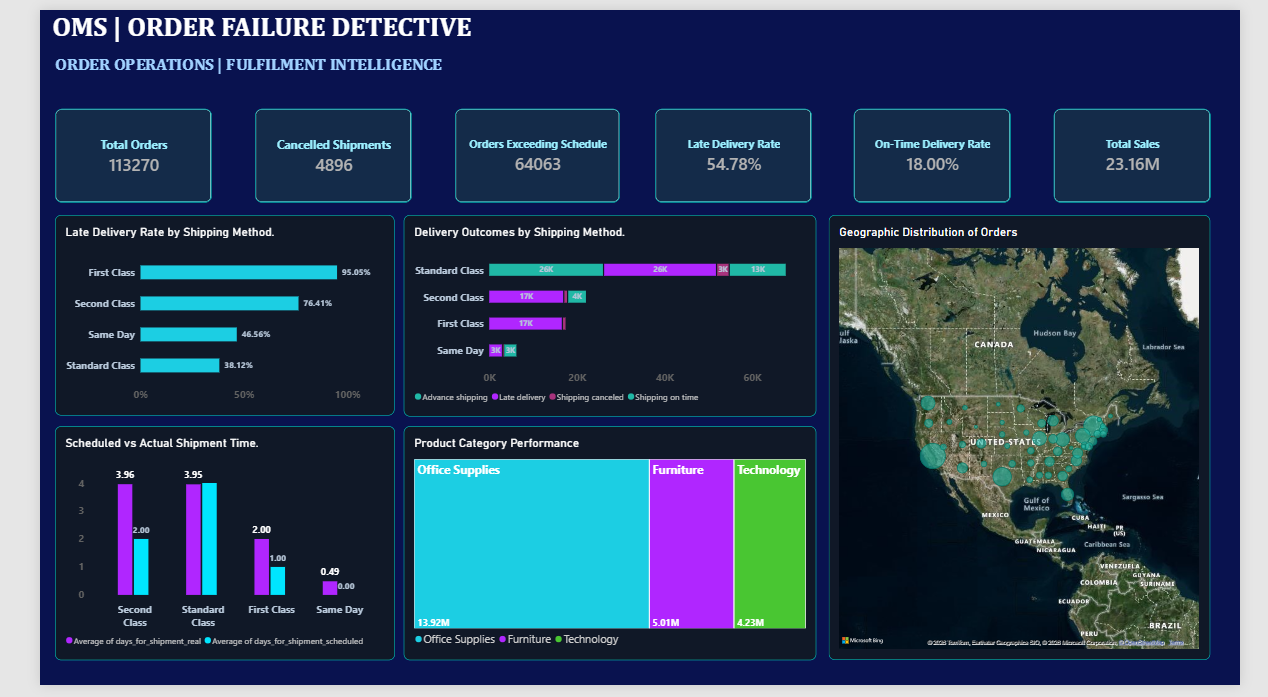

Layout of this report page (visuals, bound fields, positions):
{"tool":"powerbi","page":{"name":"Page 1","canvas":[1920,1080],"ordinal":0},"visuals":[{"type":"textbox","box":[10.3,0,745.1,70],"z":0},{"type":"textbox","box":[24.7,70,934.5,63.8],"z":1000},{"type":"cardVisual","fields":{"Data":["public oms_orders.Total Orders"]},"box":[24.7,158,251.1,150.3],"z":2000},{"type":"cardVisual","fields":{"Data":["public oms_orders.Cancelled Shipments"]},"box":[344.3,158,251,150.3],"z":3000},{"type":"cardVisual","fields":{"Data":["public oms_orders.Orders Exceeding Schedule"]},"box":[664,158,264,150],"z":4000},{"type":"cardVisual","fields":{"Data":["public oms_orders.Late Delivery Rate"]},"box":[983.1,158,251,150.3],"z":5000},{"type":"clusteredBarChart","title":"Late Delivery Rate by Shipping Method.","fields":{"Category":["public oms_orders.shipping_type"],"Y":["public oms_orders.Late Delivery Rate"]},"box":[24.7,327.3,543.4,321.1],"z":6000},{"type":"clusteredColumnChart","title":"Scheduled vs Actual Shipment Time.","fields":{"Category":["public oms_orders.shipping_type"],"Y":["Avg(public oms_orders.days_for_shipment_real)","Avg(public oms_orders.days_for_shipment_scheduled)"]},"box":[24,666,544,374],"z":7000},{"type":"map","title":"Geographic Distribution of Orders","fields":{"Category":["public state_geography.state_name"],"Size":["CountNonNull(public oms_orders.order_id)"],"X":["Avg(public state_geography.longitude)"],"Y":["Avg(public state_geography.latitude)"]},"box":[1262,328,610,712],"z":8000},{"type":"barChart","title":"Delivery Outcomes by Shipping Method.","fields":{"Category":["public oms_orders.shipping_type"],"Series":["public oms_orders.delivery_status"],"Y":["CountNonNull(public oms_orders.order_id)"]},"box":[582,328,660,322],"z":9000},{"type":"treemap","title":"Product Category Performance","fields":{"Group":["public oms_orders.category_name"],"Values":["Sum(public oms_orders.sales_per_order)"]},"box":[582,666,660,374],"z":10000},{"type":"cardVisual","fields":{"Data":["public oms_orders.On-Time Delivery Rate"]},"box":[1302.6,158,251,150.3],"z":11000},{"type":"cardVisual","fields":{"Data":["public oms_orders.Total Sales"]},"box":[1622,158,251,150.3],"z":12000}]}

Visuals, with their boxes in screenshot pixels (x1, y1, x2, y2), scaled from the page's 1920x1080 canvas onto the 1268x697 screenshot:
textbox: Rect(7, 0, 499, 45)
textbox: Rect(16, 45, 633, 86)
cardVisual - public oms_orders.Total Orders: Rect(16, 102, 182, 199)
cardVisual - public oms_orders.Cancelled Shipments: Rect(227, 102, 393, 199)
cardVisual - public oms_orders.Orders Exceeding Schedule: Rect(439, 102, 613, 199)
cardVisual - public oms_orders.Late Delivery Rate: Rect(649, 102, 815, 199)
"Late Delivery Rate by Shipping Method." clusteredBarChart: Rect(16, 211, 375, 418)
"Scheduled vs Actual Shipment Time." clusteredColumnChart: Rect(16, 430, 375, 671)
"Geographic Distribution of Orders" map: Rect(833, 212, 1236, 671)
"Delivery Outcomes by Shipping Method." barChart: Rect(384, 212, 820, 419)
"Product Category Performance" treemap: Rect(384, 430, 820, 671)
cardVisual - public oms_orders.On-Time Delivery Rate: Rect(860, 102, 1026, 199)
cardVisual - public oms_orders.Total Sales: Rect(1071, 102, 1237, 199)
